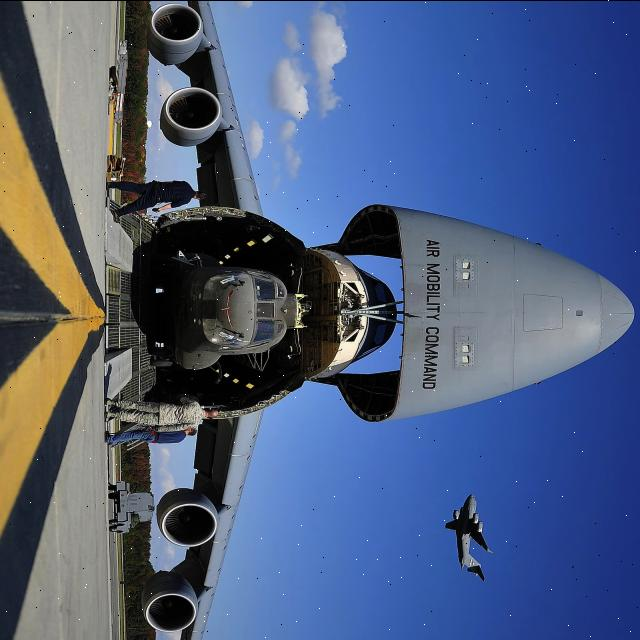C5: (39, 6, 637, 640)
